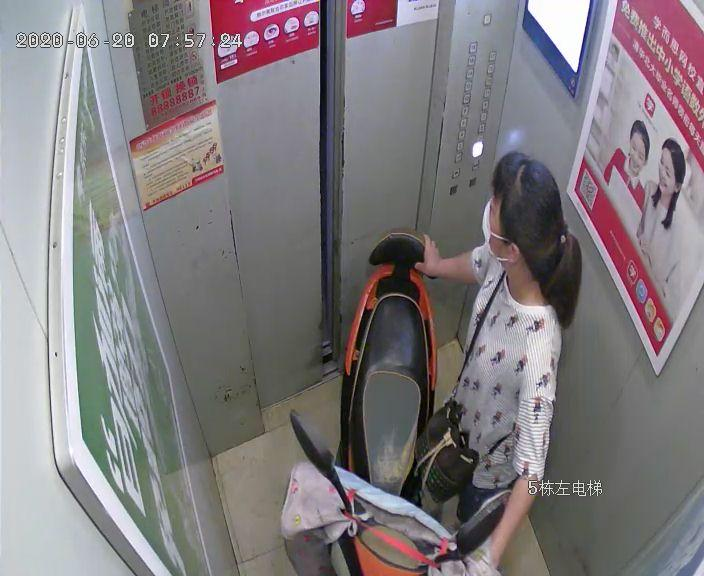Electric-bicycle: (290, 228, 507, 575)
